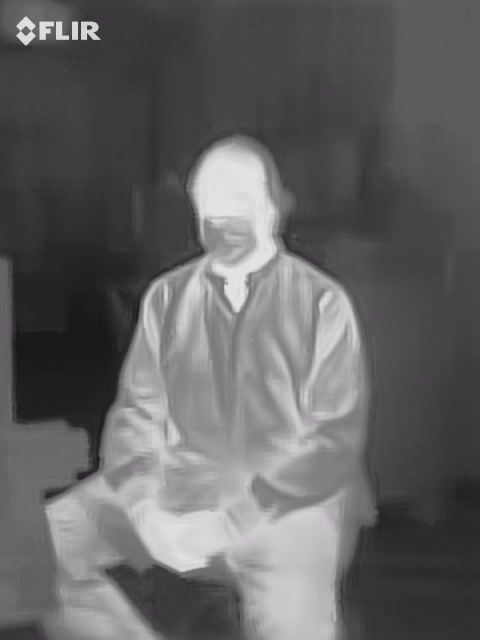head: (184, 133, 295, 268)
